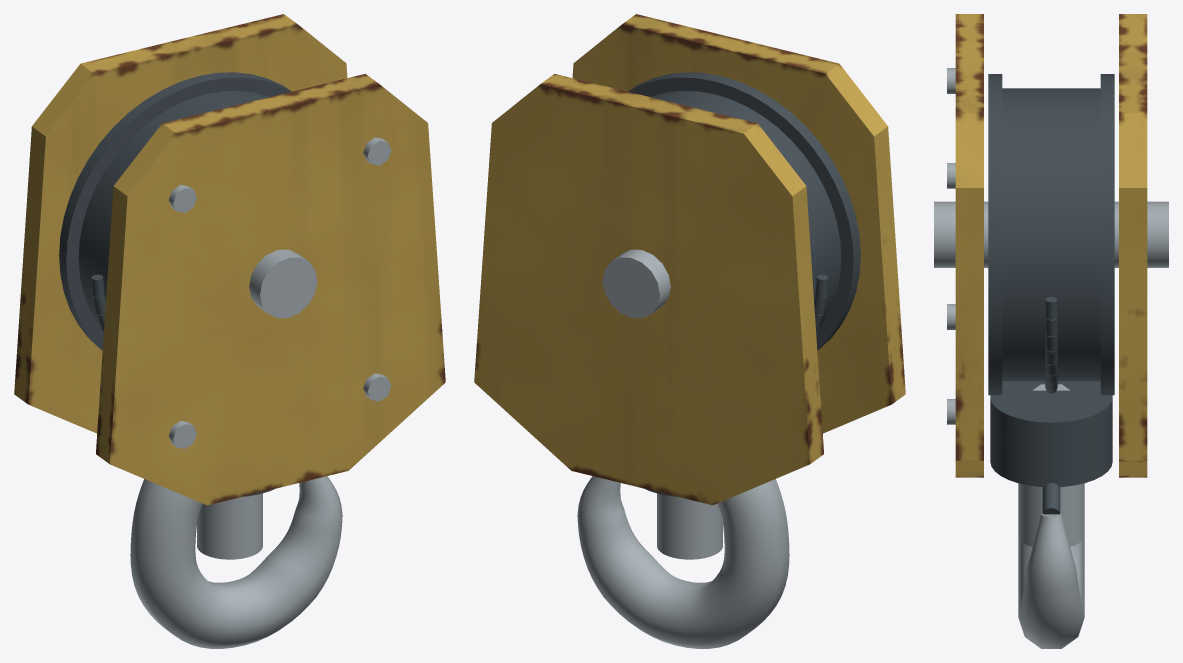
The model's file is provision_hook_block.glb.
The picture shows the model from 3 angles, left to right: view 1: azimuth 30°, elevation 25°; view 2: azimuth 150°, elevation 25°; view 3: azimuth 270°, elevation 25°; orthographic projection.
Visible parts, largest first — view 1: provision_hook_block, LowerSheave; view 2: provision_hook_block, LowerSheave; view 3: provision_hook_block, LowerSheave.
Part boxes in pixels (x1,y1,x2,y2): provision_hook_block: (14, 14, 445, 648); LowerSheave: (59, 72, 291, 350); provision_hook_block: (474, 14, 905, 648); LowerSheave: (628, 72, 860, 350); provision_hook_block: (934, 14, 1168, 648); LowerSheave: (988, 74, 1114, 395).
Size of the model in its own units: 0.76 by 1.23 by 0.46.
4 materials, 1 textured.
